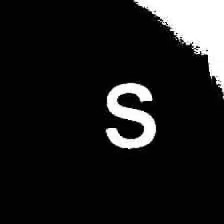LTR_S: (102, 77, 157, 151)
